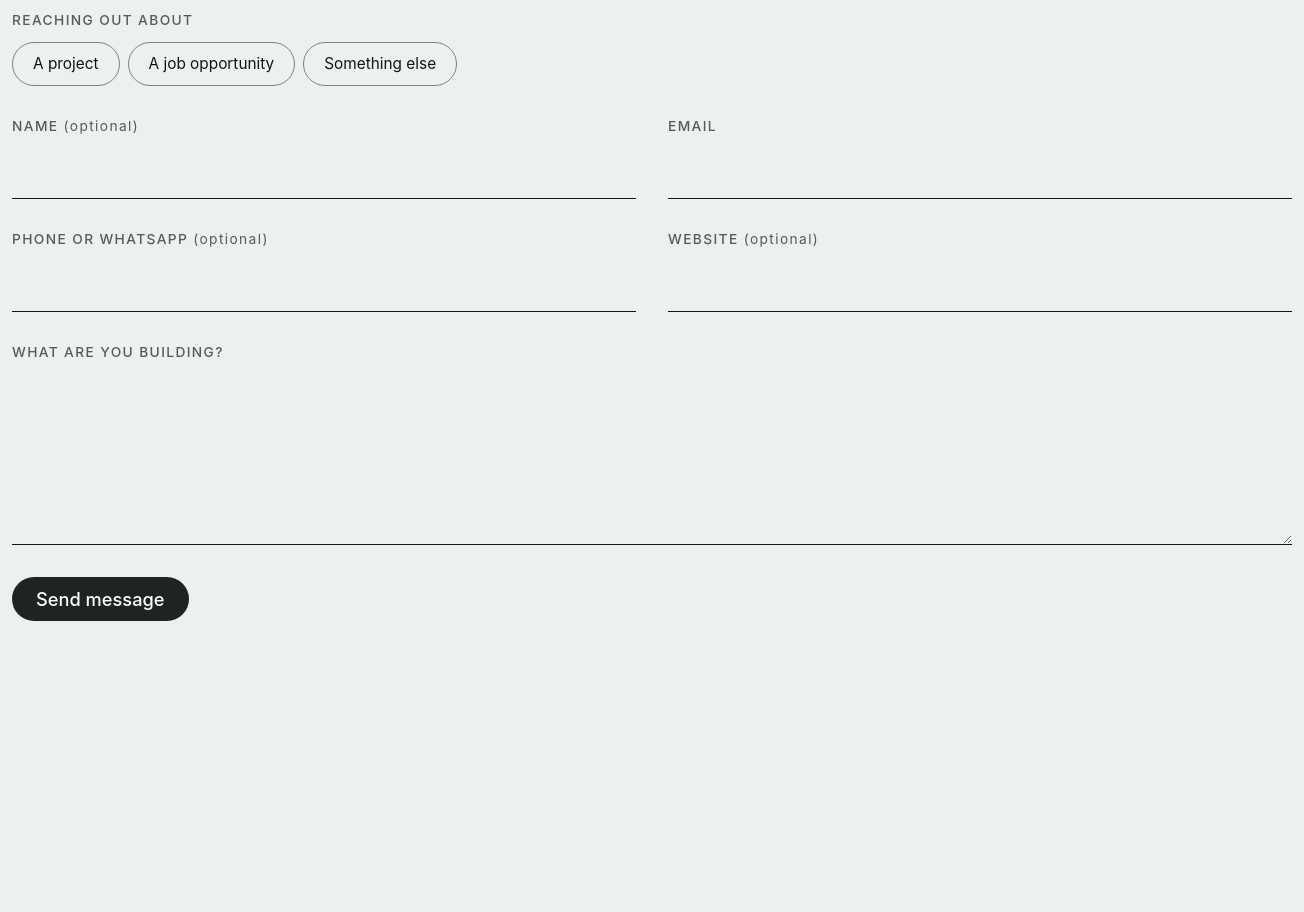
Test: sends a job's company and role
Click the radio button labelled "A job opportunity": coordinates (211, 64) [128,42,295,86]
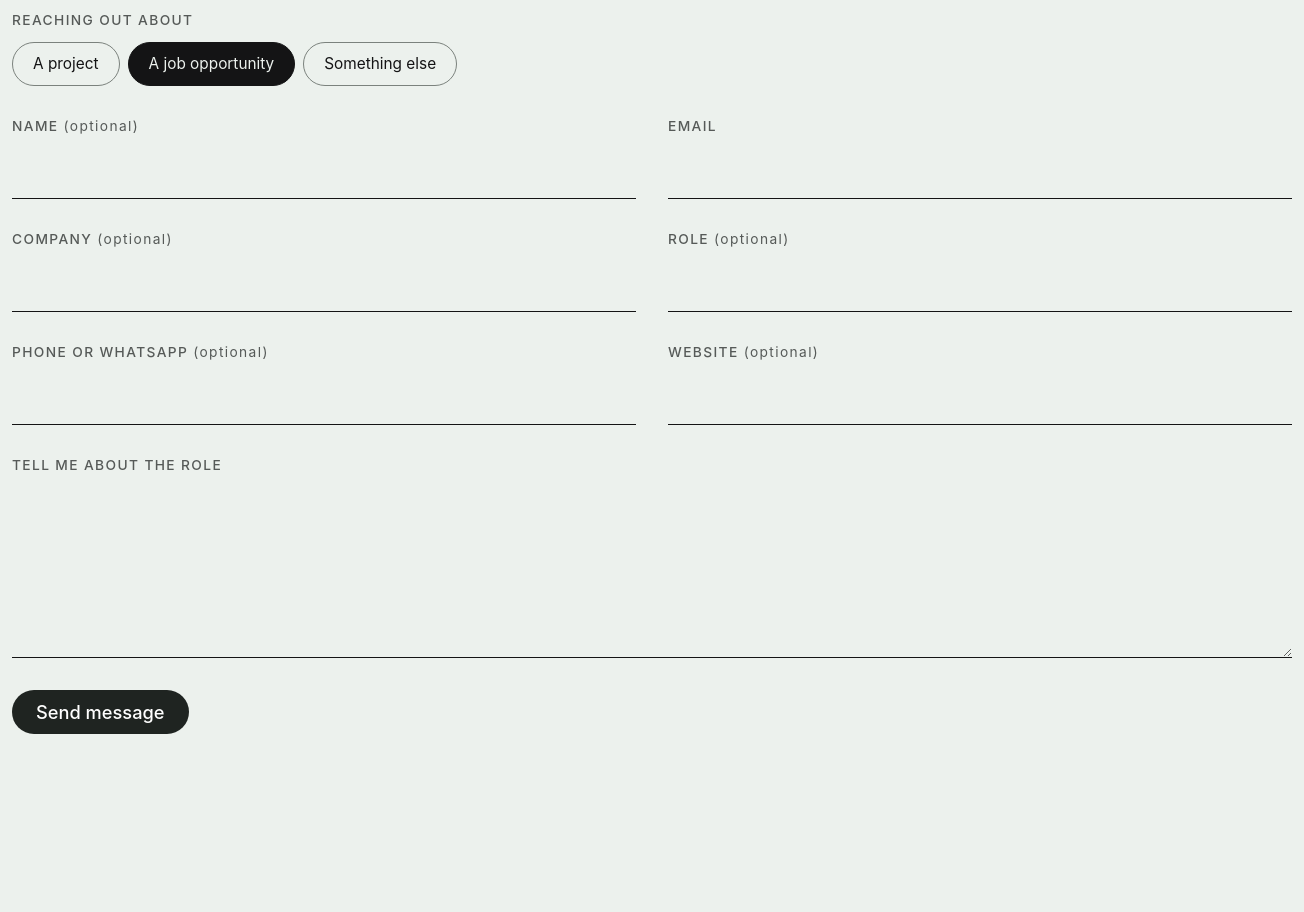
In the field labelled "Company (optional)": coordinates (324, 284) [12,257,636,312], type "Acme"
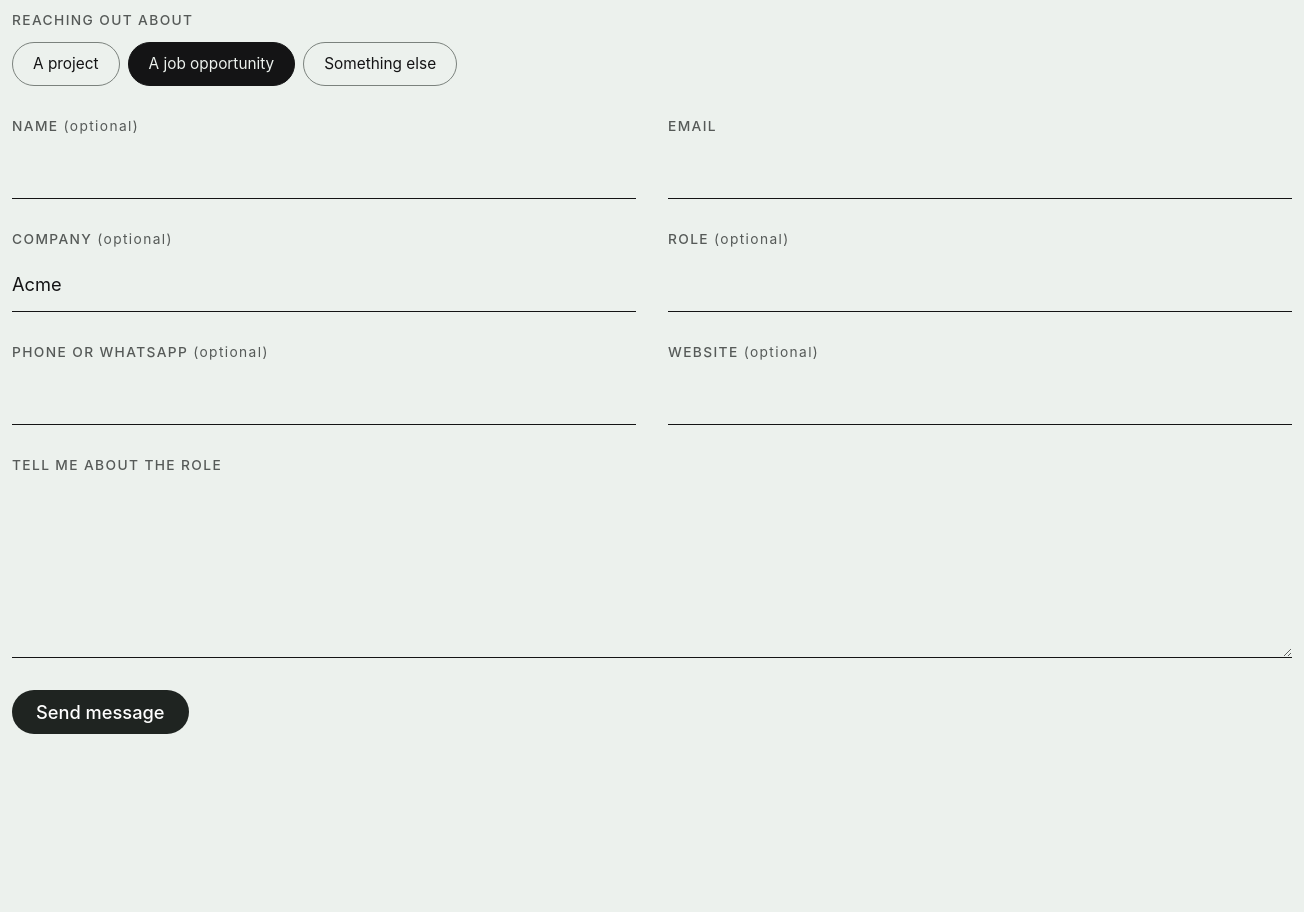
In the field labelled "Role (optional)": coordinates (980, 284) [668,257,1292,312], type "Front-end engineer"
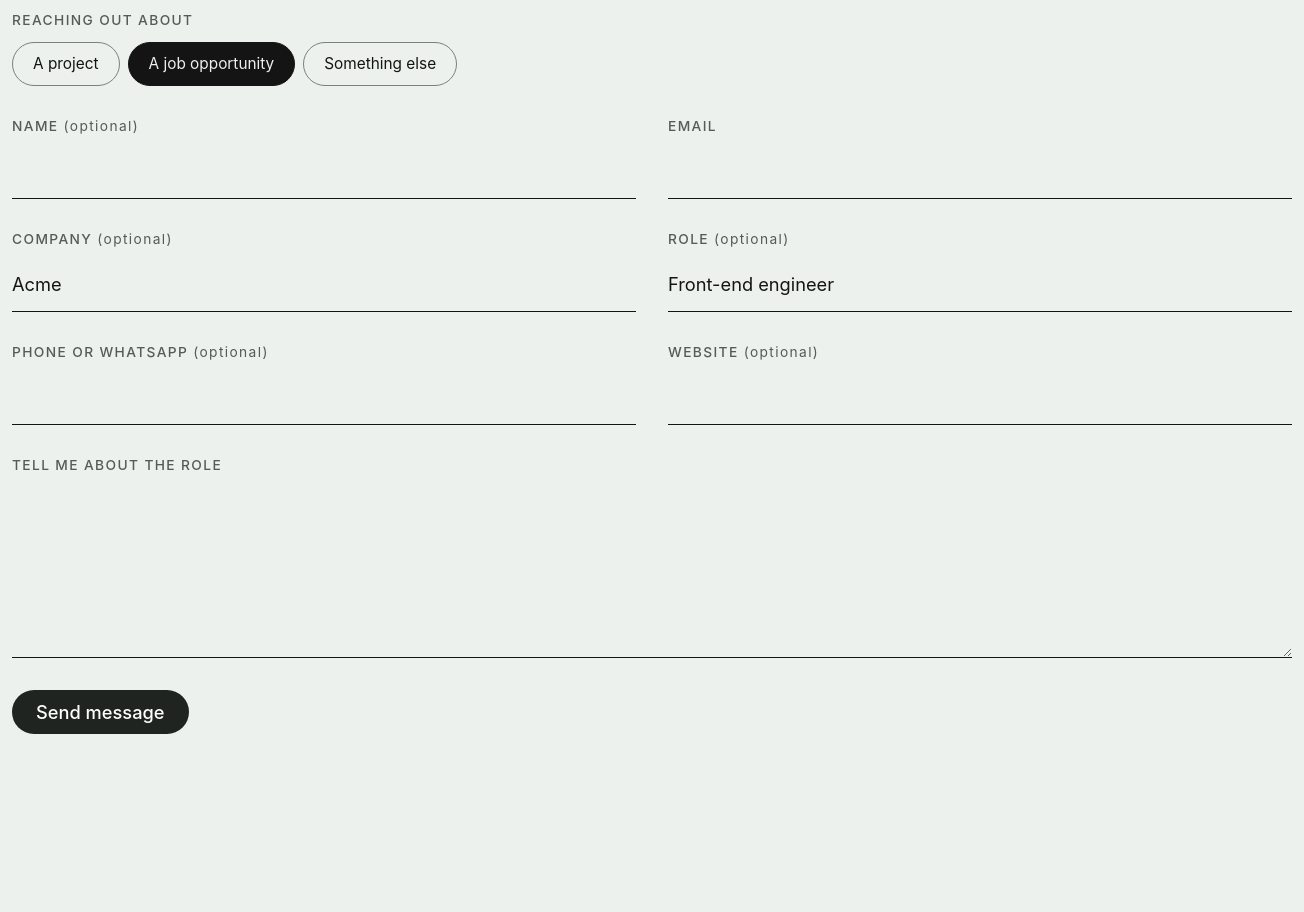
In the field labelled "Email": coordinates (980, 171) [668,144,1292,199], type "hr@acme.co"
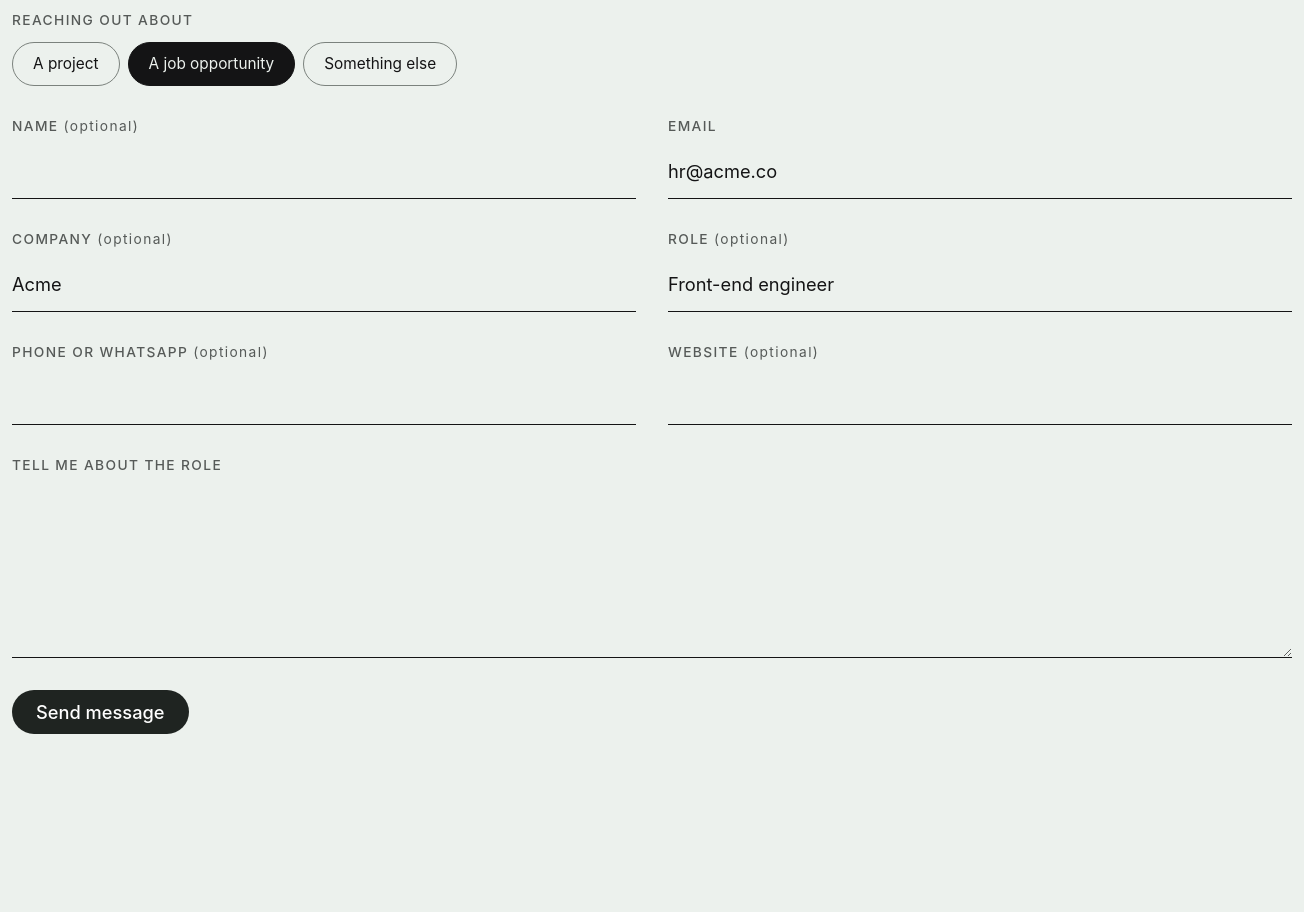
In the text box labelled "Tell me about the role": coordinates (652, 570) [12,483,1292,658], type "A senior front-end role on our platform team."
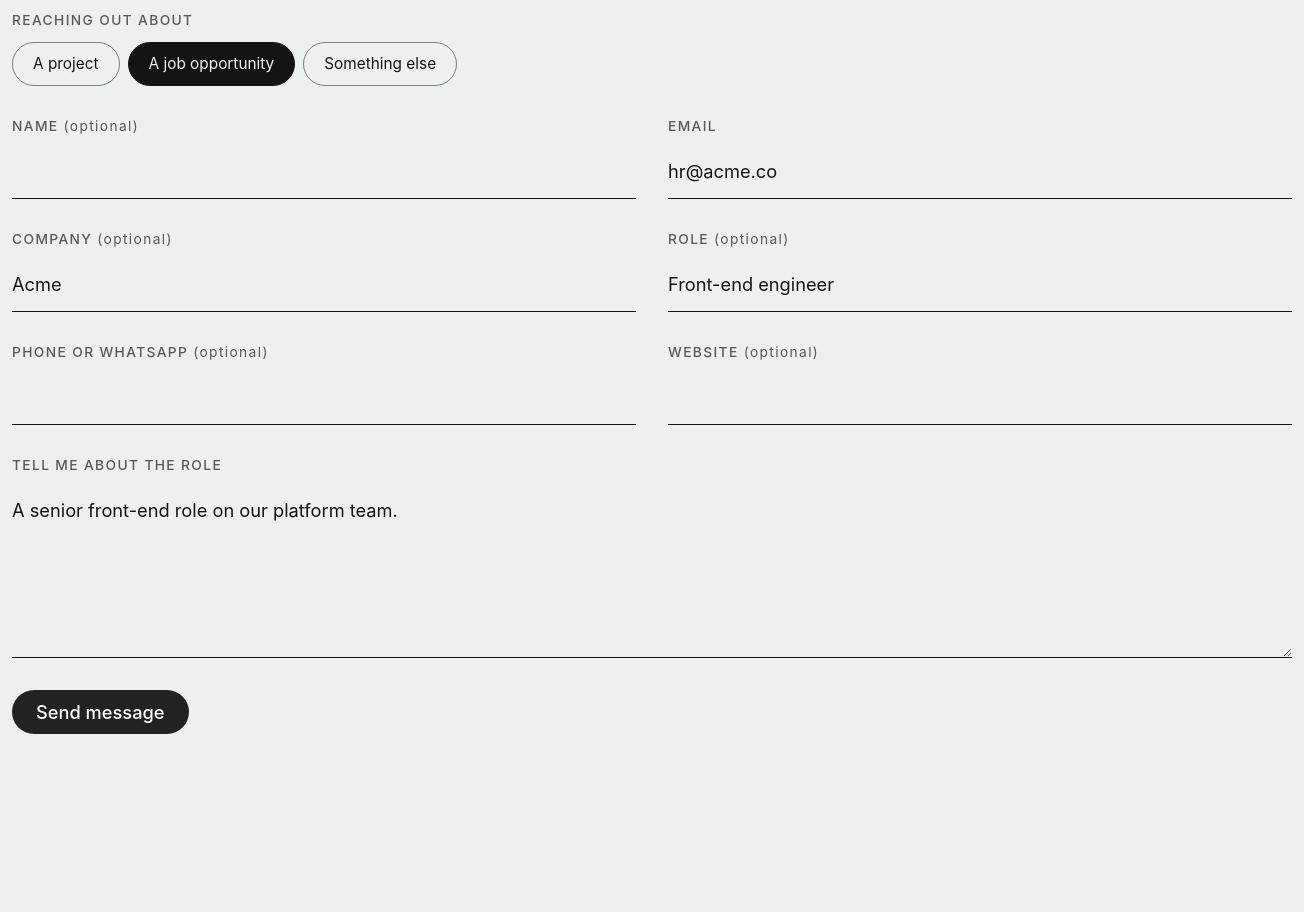
Click the button "Send message": coordinates (100, 712) [12,690,188,734]
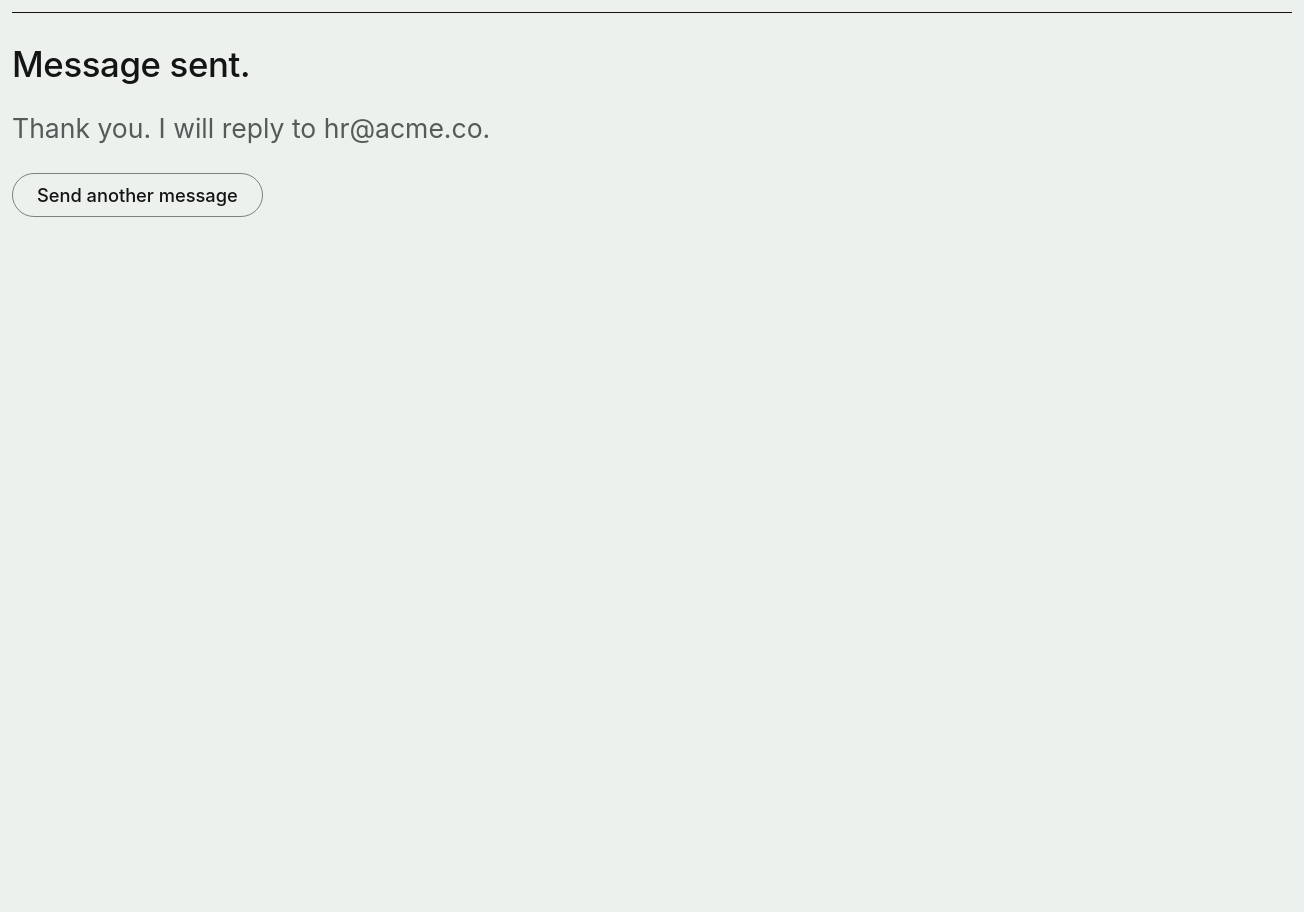
Expected: the heading "Message sent." is shown, [12,43,250,85]
